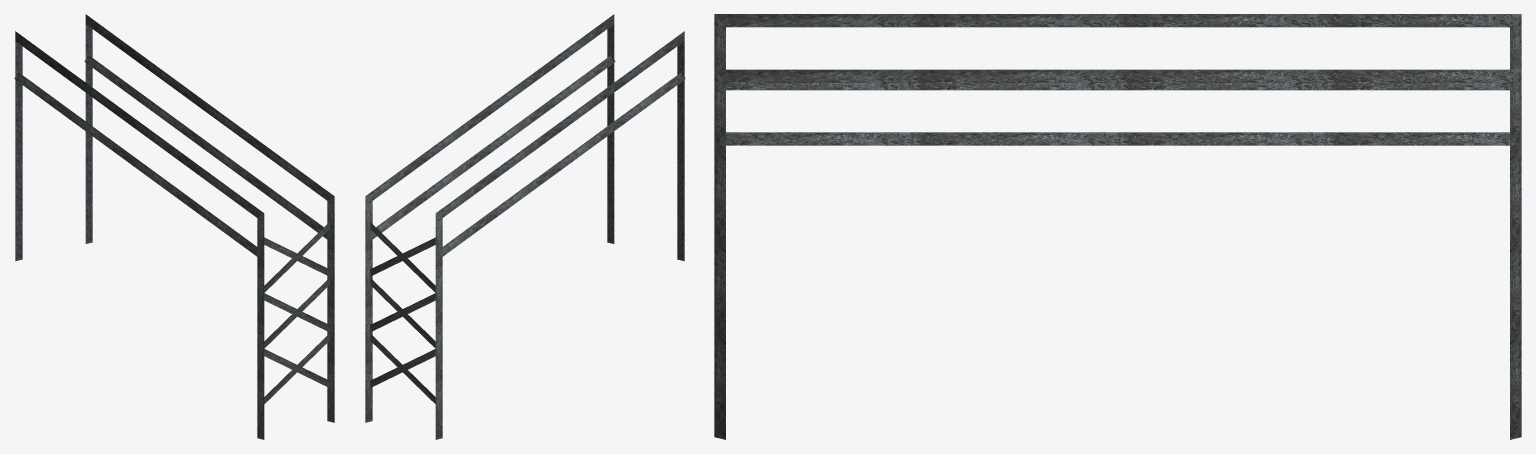
Rendered from gantry.glb.
3 views of the same model, side by side, from view 1: azimuth 30°, elevation 25°; view 2: azimuth 150°, elevation 25°; view 3: azimuth 270°, elevation 25° (orthographic). The views are drawn at different scales.
Visible parts, largest first — view 1: XO_FWY_SIGNSUPPORTTRUSS_1C_00; view 2: XO_FWY_SIGNSUPPORTTRUSS_1C_00; view 3: XO_FWY_SIGNSUPPORTTRUSS_1C_00.
Part boxes in pixels (left/top/right/bottom): XO_FWY_SIGNSUPPORTTRUSS_1C_00: left=14, top=14, right=334, bottom=439; XO_FWY_SIGNSUPPORTTRUSS_1C_00: left=365, top=14, right=685, bottom=439; XO_FWY_SIGNSUPPORTTRUSS_1C_00: left=714, top=14, right=1521, bottom=439.
Bounding box in the file's own units: 3.73 × 10.44 × 20.78.
Materials: 1 (1 with a texture image).
